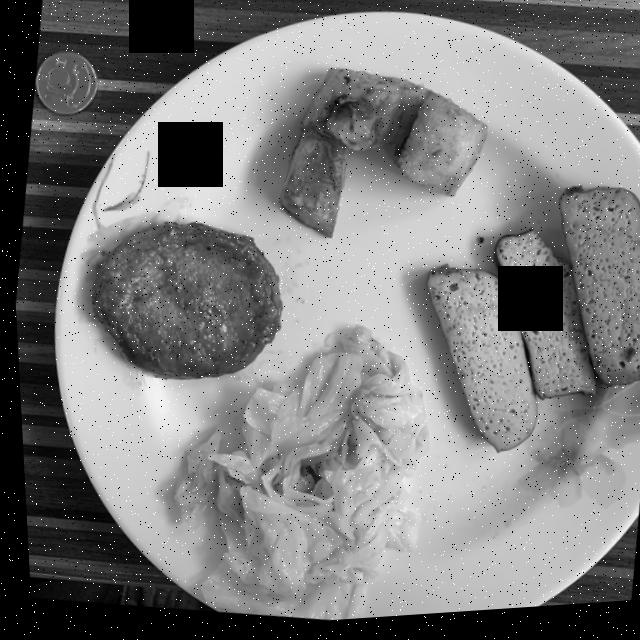cabbage: (169, 331, 423, 624)
coin: (34, 52, 96, 115)
firm tofu: (423, 195, 640, 458)
fish cake: (88, 225, 278, 382)
fried potato: (276, 73, 485, 242)
